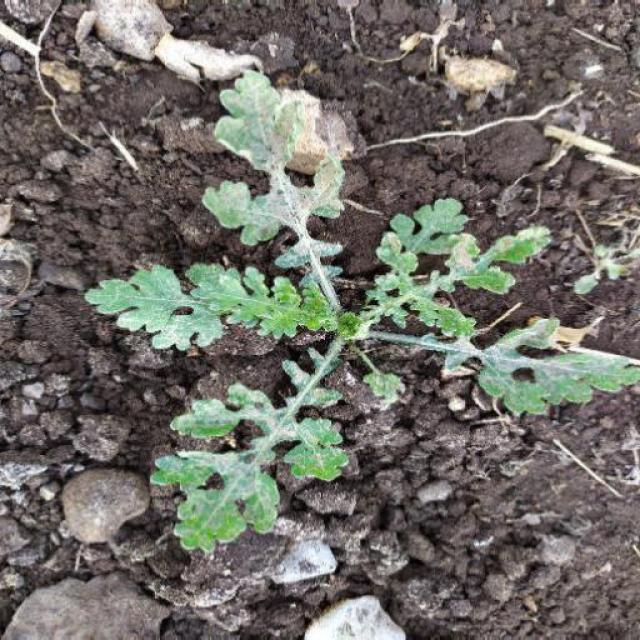weed: (94, 76, 640, 539)
